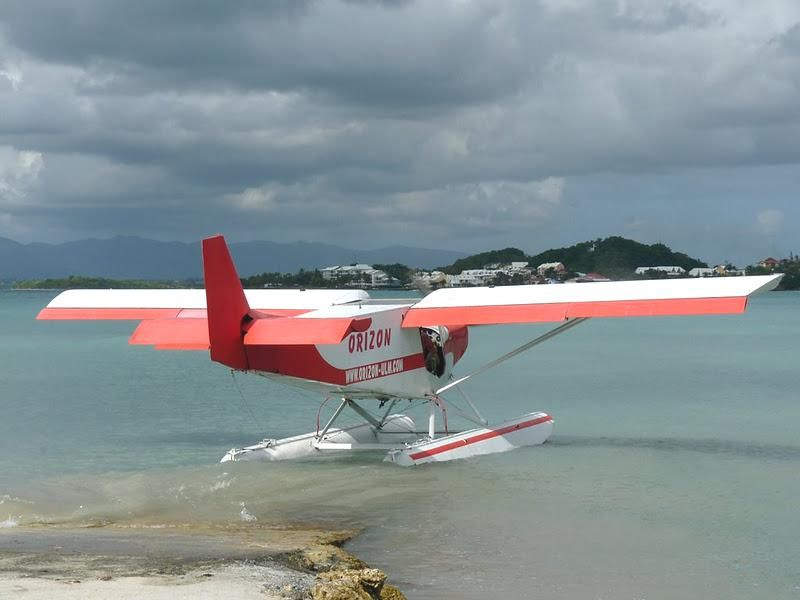Aeronef_commercial: (25, 248, 795, 484)
